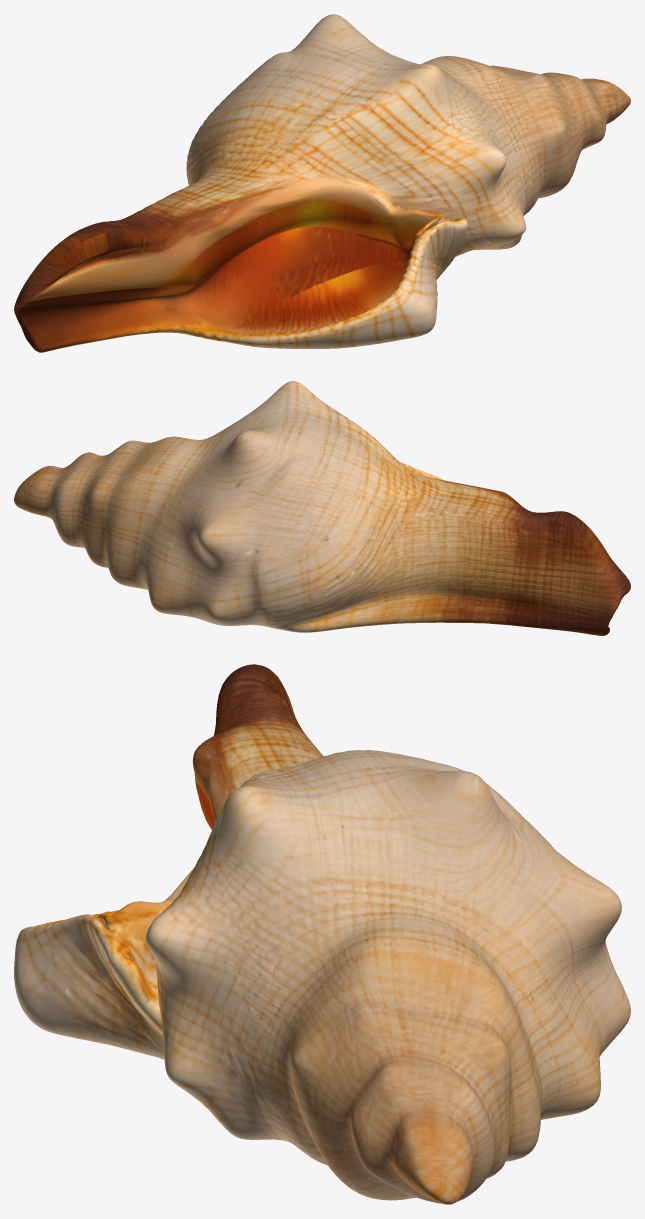
File: maluku-utara.glb
The picture shows the model from 3 angles, top to bottom: view 1: azimuth 30°, elevation 25°; view 2: azimuth 150°, elevation 25°; view 3: azimuth 270°, elevation 25°; orthographic projection. The views are drawn at different scales.
Visible parts, largest first — view 1: node_0; view 2: node_0; view 3: node_0.
Boxes of the visible parts, x1,y1,x2,y2 form: node_0: [14, 14, 630, 352]; node_0: [14, 381, 630, 635]; node_0: [14, 664, 630, 1204].
Size of the model in its own units: 1.16 by 0.3409 by 0.6345.
Materials: 1 (1 with a texture image).
